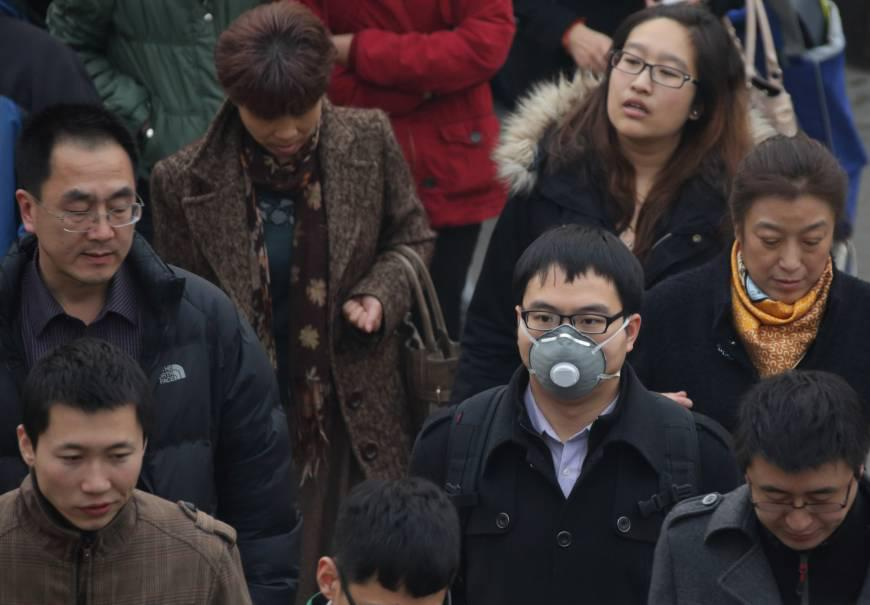mask: (515, 295, 625, 404)
none: (37, 430, 143, 533), (37, 177, 138, 285), (605, 36, 695, 146), (744, 472, 860, 556), (738, 213, 833, 301), (244, 101, 321, 158)
